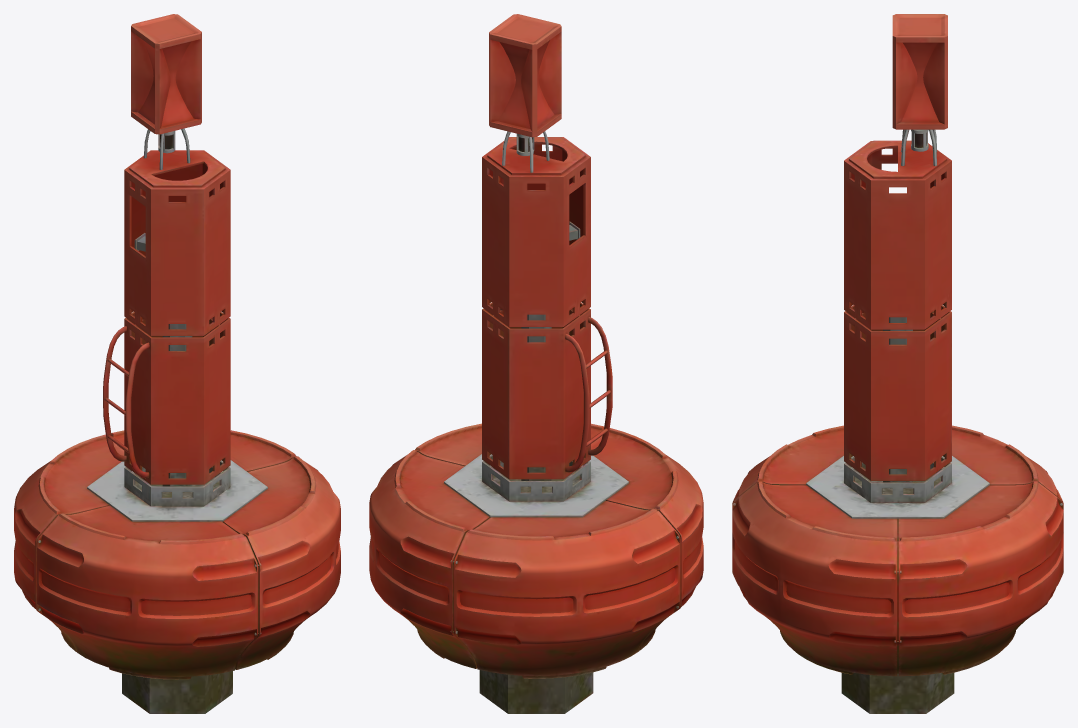
The model's file is lateral_sea_marker.glb.
3 renders of one model, left to right at view 1: azimuth 30°, elevation 25°; view 2: azimuth 150°, elevation 25°; view 3: azimuth 270°, elevation 25°, orthographic. The views are drawn at different scales.
Parts seen in each view (by area): view 1: lateral_sea_marker; view 2: lateral_sea_marker; view 3: lateral_sea_marker.
Boxes of the visible parts, x1=… form: lateral_sea_marker: x1=14, y1=14, x2=340, y2=713; lateral_sea_marker: x1=369, y1=14, x2=703, y2=713; lateral_sea_marker: x1=732, y1=14, x2=1063, y2=713.
Bounding box in the file's own units: 3 × 6.84 × 3.
1 material, 1 textured.
